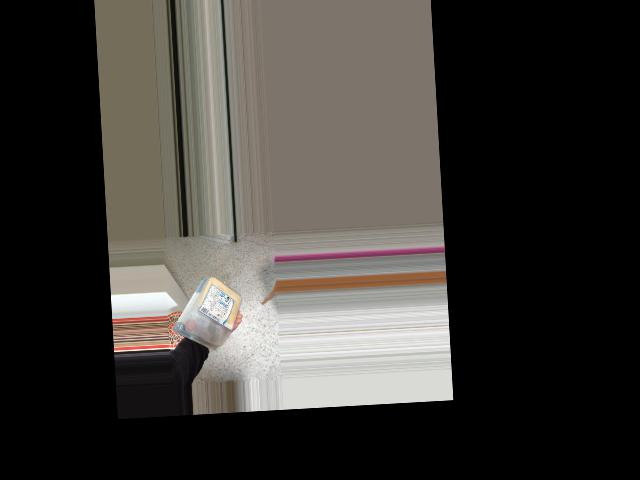cheese: (180, 276, 243, 345)
